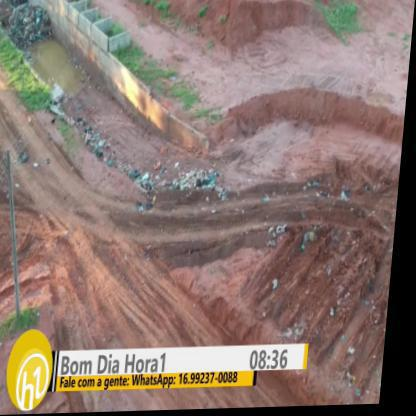agua: (41, 41, 71, 76)
lixo: (144, 167, 227, 199), (84, 128, 111, 161), (17, 10, 48, 38)
